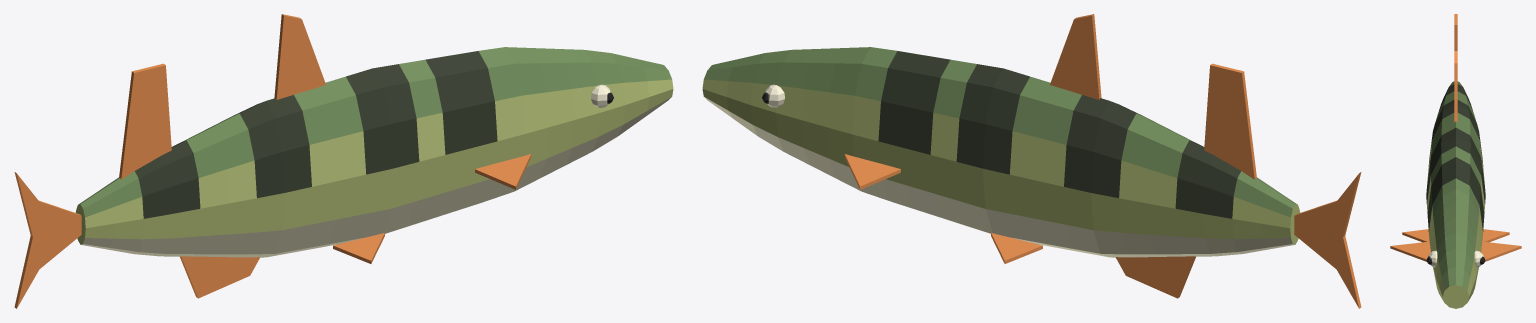
The model's file is barsch.glb.
3 views of the same model, side by side, from view 1: azimuth 30°, elevation 25°; view 2: azimuth 150°, elevation 25°; view 3: azimuth 270°, elevation 25° (orthographic). The views are drawn at different scales.
Visible parts, largest first — view 1: barsch; view 2: barsch; view 3: barsch.
Part boxes in pixels (bbox=[...]): barsch: bbox=[14, 14, 673, 308]; barsch: bbox=[702, 14, 1361, 308]; barsch: bbox=[1390, 14, 1521, 308].
Size of the model in its own units: 1 by 0.3862 by 0.2473.
